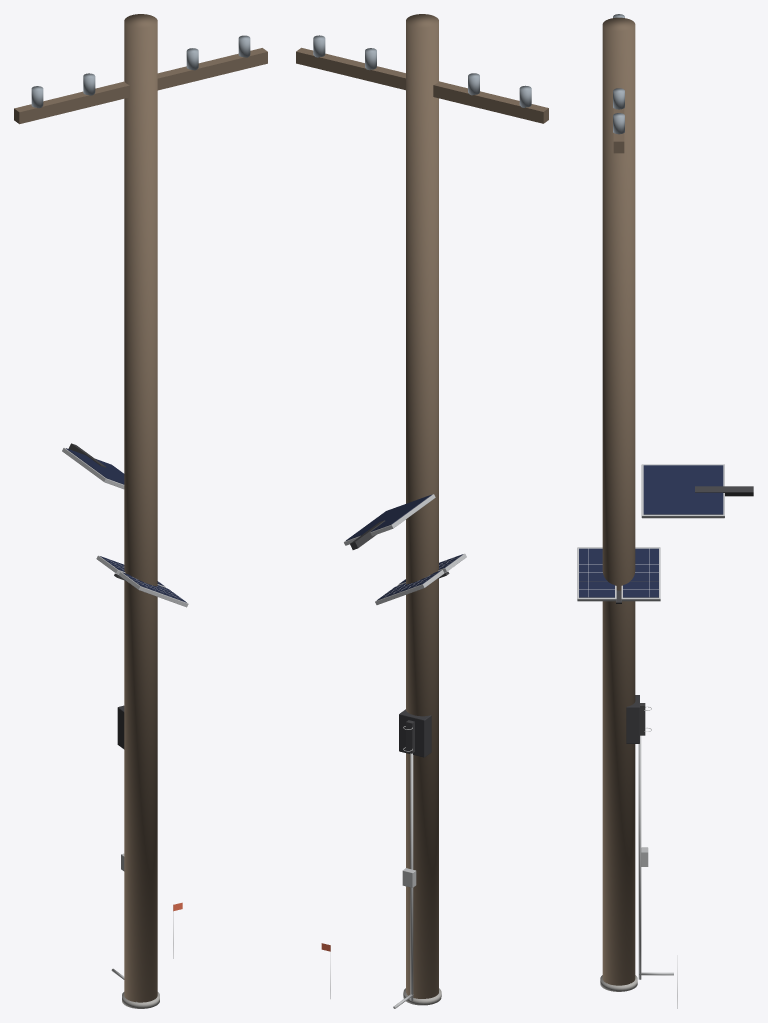
File: pole.glb
3 views of the same model, side by side, from view 1: azimuth 30°, elevation 25°; view 2: azimuth 150°, elevation 25°; view 3: azimuth 270°, elevation 25° (orthographic). The views are drawn at different scales.
Visible parts, largest first — view 1: utility_shaft, utility_crossarm, utility_solar_cells; view 2: utility_shaft, utility_crossarm, battery_enclosure, ac_conduit, utility_solar_cells; view 3: utility_shaft, utility_solar_cells, solar_cells0, solar_cells1, ac_conduit, utility_solar_frame, battery_enclosure, utility_solar_arm.
Boxes of the visible parts, x1,y1,x2,y2 form: utility_shaft: [124, 14, 157, 1002]; utility_crossarm: [14, 48, 267, 124]; utility_solar_cells: [66, 448, 124, 484]; utility_shaft: [406, 14, 438, 998]; utility_crossarm: [296, 47, 548, 123]; battery_enclosure: [399, 709, 431, 757]; ac_conduit: [410, 753, 413, 1000]; utility_solar_cells: [346, 494, 431, 540]; utility_shaft: [602, 17, 635, 985]; utility_solar_cells: [643, 465, 723, 514]; solar_cells0: [579, 548, 614, 597]; solar_cells1: [623, 548, 658, 597]; ac_conduit: [638, 735, 641, 979]; utility_solar_frame: [641, 464, 724, 518]; battery_enclosure: [626, 695, 639, 743]; utility_solar_arm: [695, 486, 753, 496].
Size of the model in its own units: 2.4 by 9.04 by 1.51.
